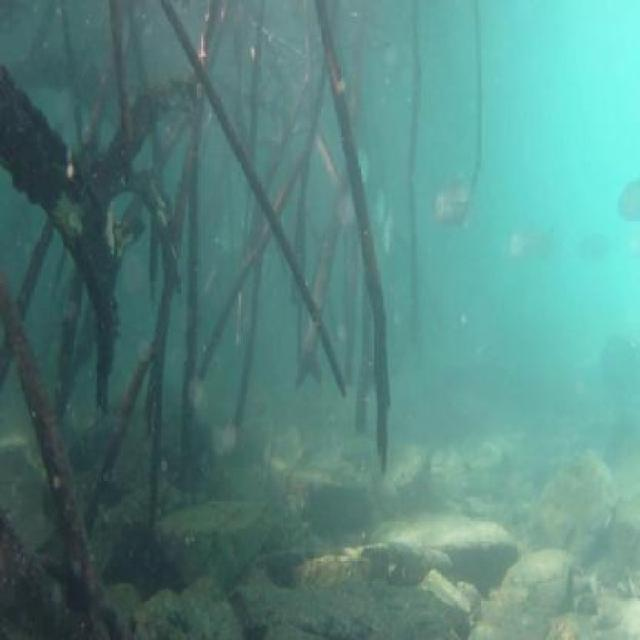Caranx_sexfasciatus_juvenile: (431, 164, 492, 242), (505, 219, 560, 281), (612, 182, 640, 230)
